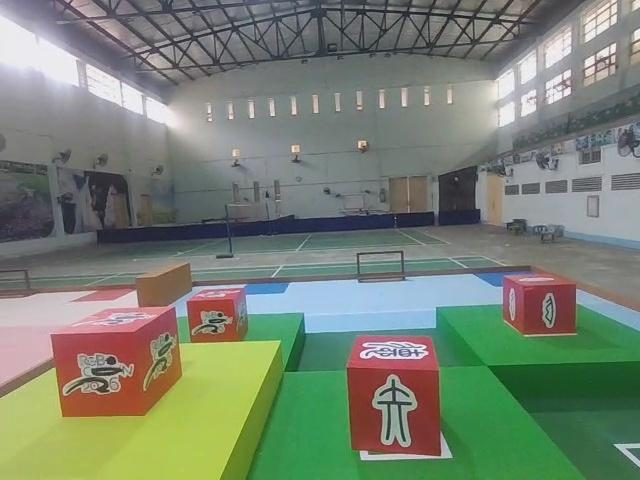R1: (47, 303, 185, 420), (181, 285, 251, 344)
R2 Fake: (343, 333, 443, 460)
R2 Real: (500, 270, 579, 338)
